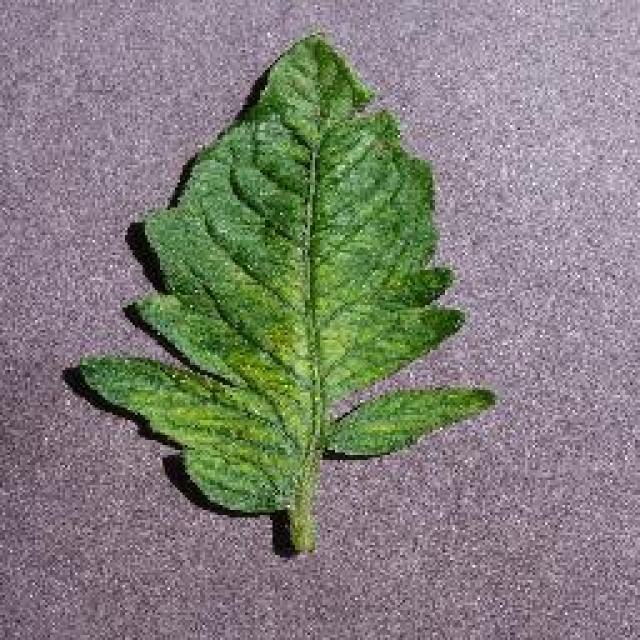Tomato mosaic virus leaf: (79, 32, 498, 516)
